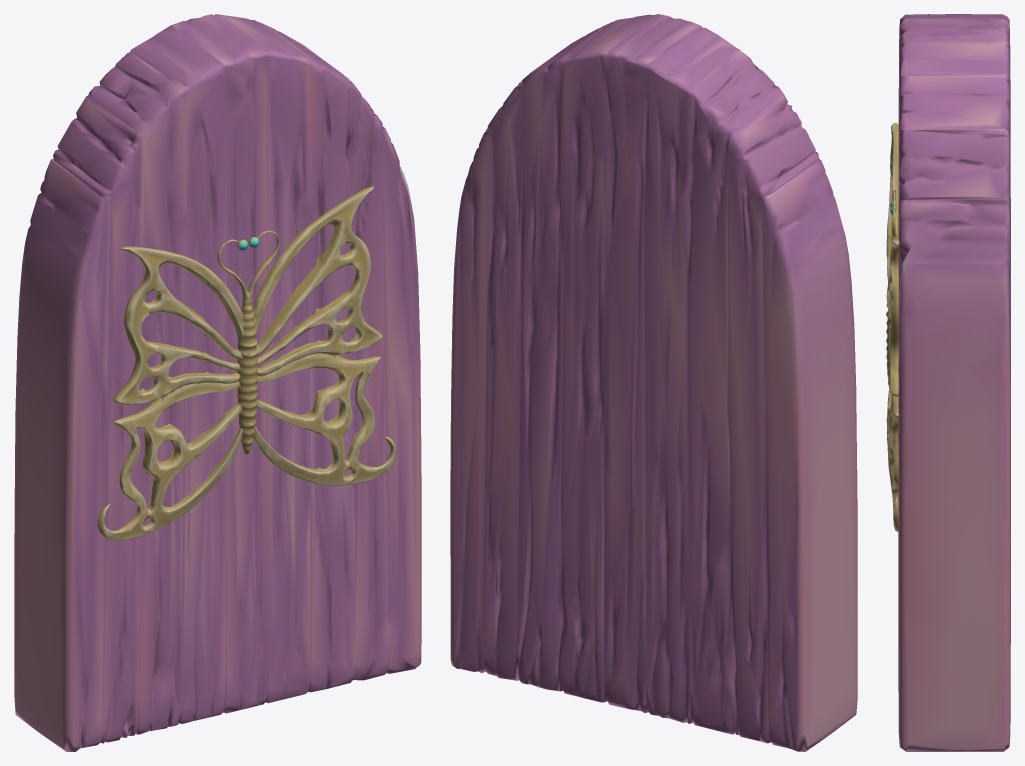
File: SM_Door_pink.fbx
The picture shows the model from 3 angles, left to right: view 1: azimuth 30°, elevation 25°; view 2: azimuth 150°, elevation 25°; view 3: azimuth 270°, elevation 25°; orthographic projection. The views are drawn at different scales.
Parts seen in each view (by area): view 1: Door_pink; view 2: Door_pink; view 3: Door_pink.
Part boxes in pixels (left/top/right/bottom): Door_pink: left=14, top=14, right=421, bottom=751; Door_pink: left=450, top=14, right=857, bottom=751; Door_pink: left=886, top=14, right=1010, bottom=751.
Size of the model in its own units: 93.26 by 163 by 28.79.
